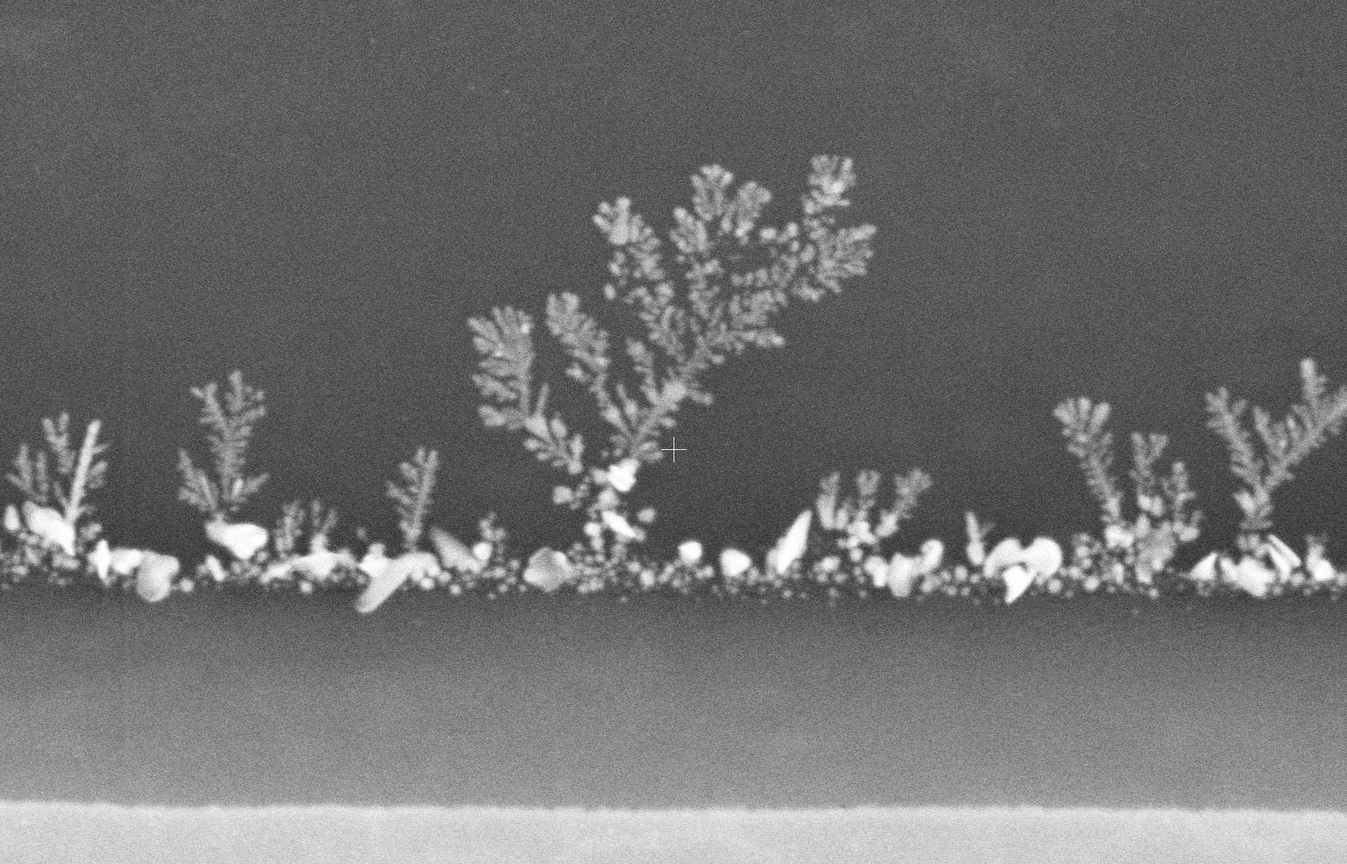Dendrite: (468, 155, 874, 598), (861, 397, 1201, 604), (1187, 359, 1346, 602), (0, 412, 191, 603), (716, 468, 980, 603), (178, 370, 269, 584), (356, 446, 450, 611), (259, 500, 369, 593), (427, 512, 529, 596)
